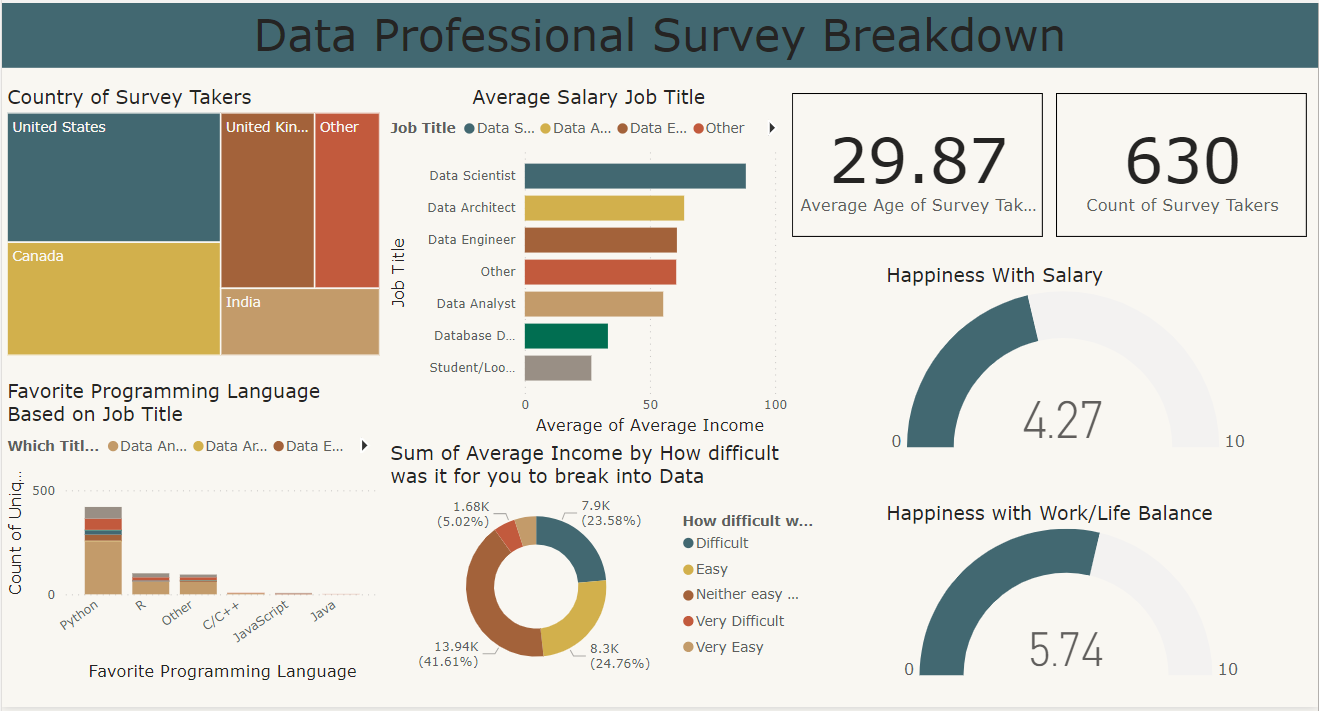

What the dashboard file says about the page in this screenshot:
{"tool":"powerbi","page":{"name":"Page 1","canvas":[1280,720],"ordinal":0},"visuals":[{"type":"textbox","box":[0,34.5,1280,64.3],"z":0},{"type":"card","fields":{"Values":["CountNonNull(Data Professional Survey.Unique ID)"]},"box":[1025.2,122.6,244.1,140.1],"z":1000},{"type":"card","fields":{"Values":["Avg(Data Professional Survey.Q10 - Current Age)"]},"box":[768.4,122.6,244.1,140.1],"z":2000},{"type":"barChart","title":"Average Salary Job Title","fields":{"Category":["Data Professional Survey.Q1 - Which Title Best Fits your Current Role?.1"],"Y":["Avg(Data Professional Survey.Average Income)"],"Series":["Data Professional Survey.Q1 - Which Title Best Fits your Current Role?.1"]},"box":[372.3,113.8,396.4,345.9],"z":3000},{"type":"treemap","title":"Country of Survey Takers","fields":{"Group":["Data Professional Survey.Q11 - Which Country do you live in?.1"],"Values":["Avg(Data Professional Survey.Average Income)"]},"box":[0,113.8,372.3,268.9],"z":4000},{"type":"gauge","title":"Happiness With Salary","fields":{"Y":["Avg(Data Professional Survey.Q6 - How Happy are you in your Current Position with the following? (Salary))"],"MinValue":["Min(Data Professional Survey.Q6 - How Happy are you in your Current Position with the following? (Salary))1"],"MaxValue":["Max(Data Professional Survey.Q6 - How Happy are you in your Current Position with the following? (Salary))2"]},"box":[854.9,287.3,364.2,190.7],"z":5000},{"type":"gauge","title":"Happiness with Work/Life Balance","fields":{"Y":["Avg(Data Professional Survey.Q6 - How Happy are you in your Current Position with the following? (Work/Life Balance))"],"MinValue":["Min(Data Professional Survey.Q6 - How Happy are you in your Current Position with the following? (Work/Life Balance))1"],"MaxValue":["Max(Data Professional Survey.Q6 - How Happy are you in your Current Position with the following? (Work/Life Balance))2"]},"box":[854.9,518.2,370,180.4],"z":6000},{"type":"columnChart","title":"Favorite Programming Language Based on Job Title","fields":{"Category":["Data Professional Survey.Q5 - Favorite Programming Language.1"],"Y":["CountNonNull(Data Professional Survey.Unique ID)"],"Series":["Data Professional Survey.Q1 - Which Title Best Fits your Current Role?.1"]},"box":[0,399.9,372.3,298.7],"z":7000},{"type":"donutChart","fields":{"Y":["Sum(Data Professional Survey.Average Income)"],"Series":["Data Professional Survey.Q7 - How difficult was it for you to break into Data?"]},"box":[372.3,459.6,417.1,239],"z":8000}]}

Visuals, with their boxes in screenshot pixels (x1, y1, x2, y2):
textbox: [left=3, top=0, right=1296, bottom=65]
card - CountNonNull(Data Professional Survey.Unique ID): [left=1039, top=89, right=1285, bottom=231]
card - Avg(Data Professional Survey.Q10 - Current Age): [left=779, top=89, right=1026, bottom=231]
"Average Salary Job Title" barChart: [left=379, top=81, right=780, bottom=430]
"Country of Survey Takers" treemap: [left=3, top=81, right=379, bottom=352]
"Happiness With Salary" gauge: [left=867, top=256, right=1234, bottom=448]
"Happiness with Work/Life Balance" gauge: [left=867, top=489, right=1240, bottom=671]
"Favorite Programming Language Based on Job Title" columnChart: [left=3, top=369, right=379, bottom=671]
donutChart - Sum(Data Professional Survey.Average Income) x Data Professional Survey.Q7 - How difficult was it for you to break into Data?: [left=379, top=430, right=800, bottom=671]
